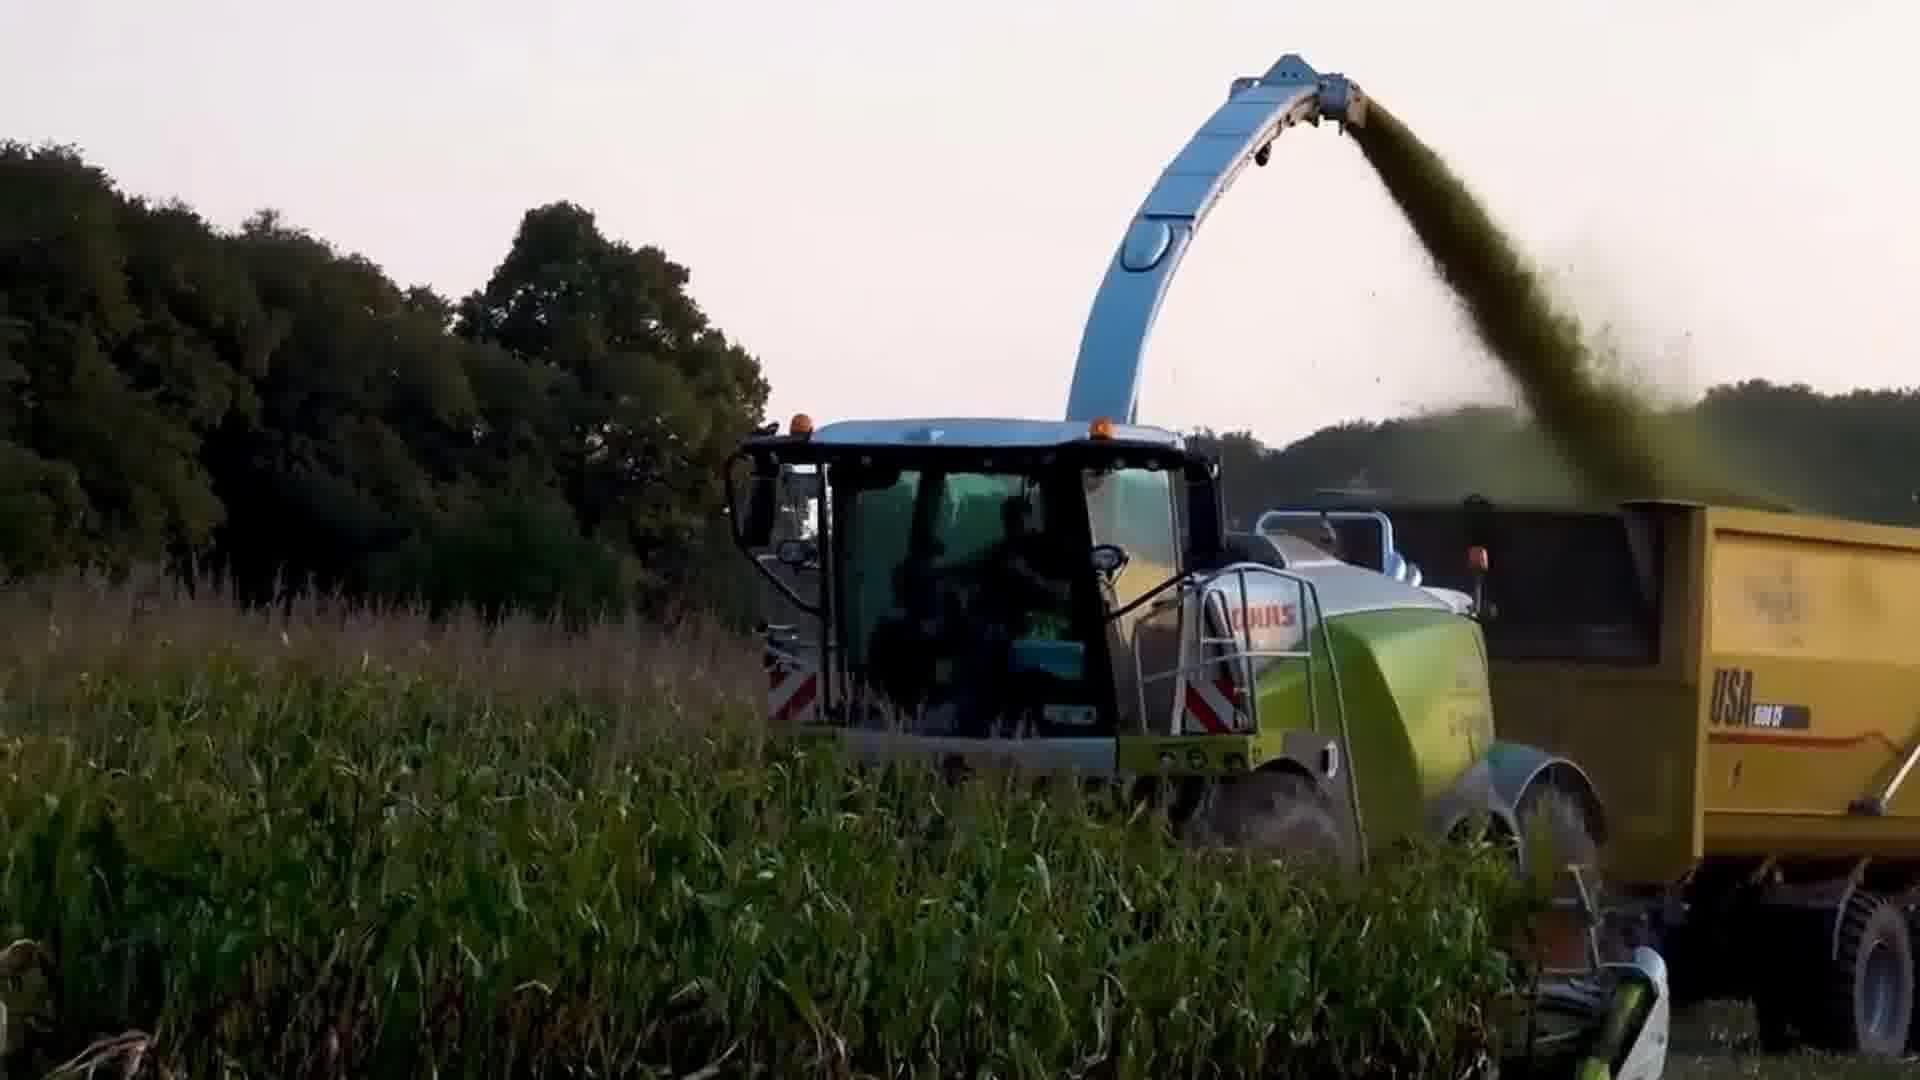combine harvester: (719, 44, 1679, 1080)
trailer: (1247, 493, 1920, 1080)
